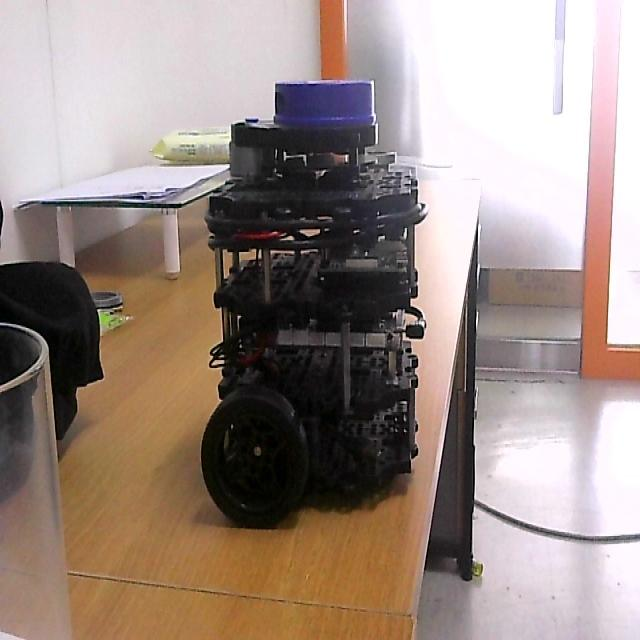turtle: (198, 79, 428, 532)
